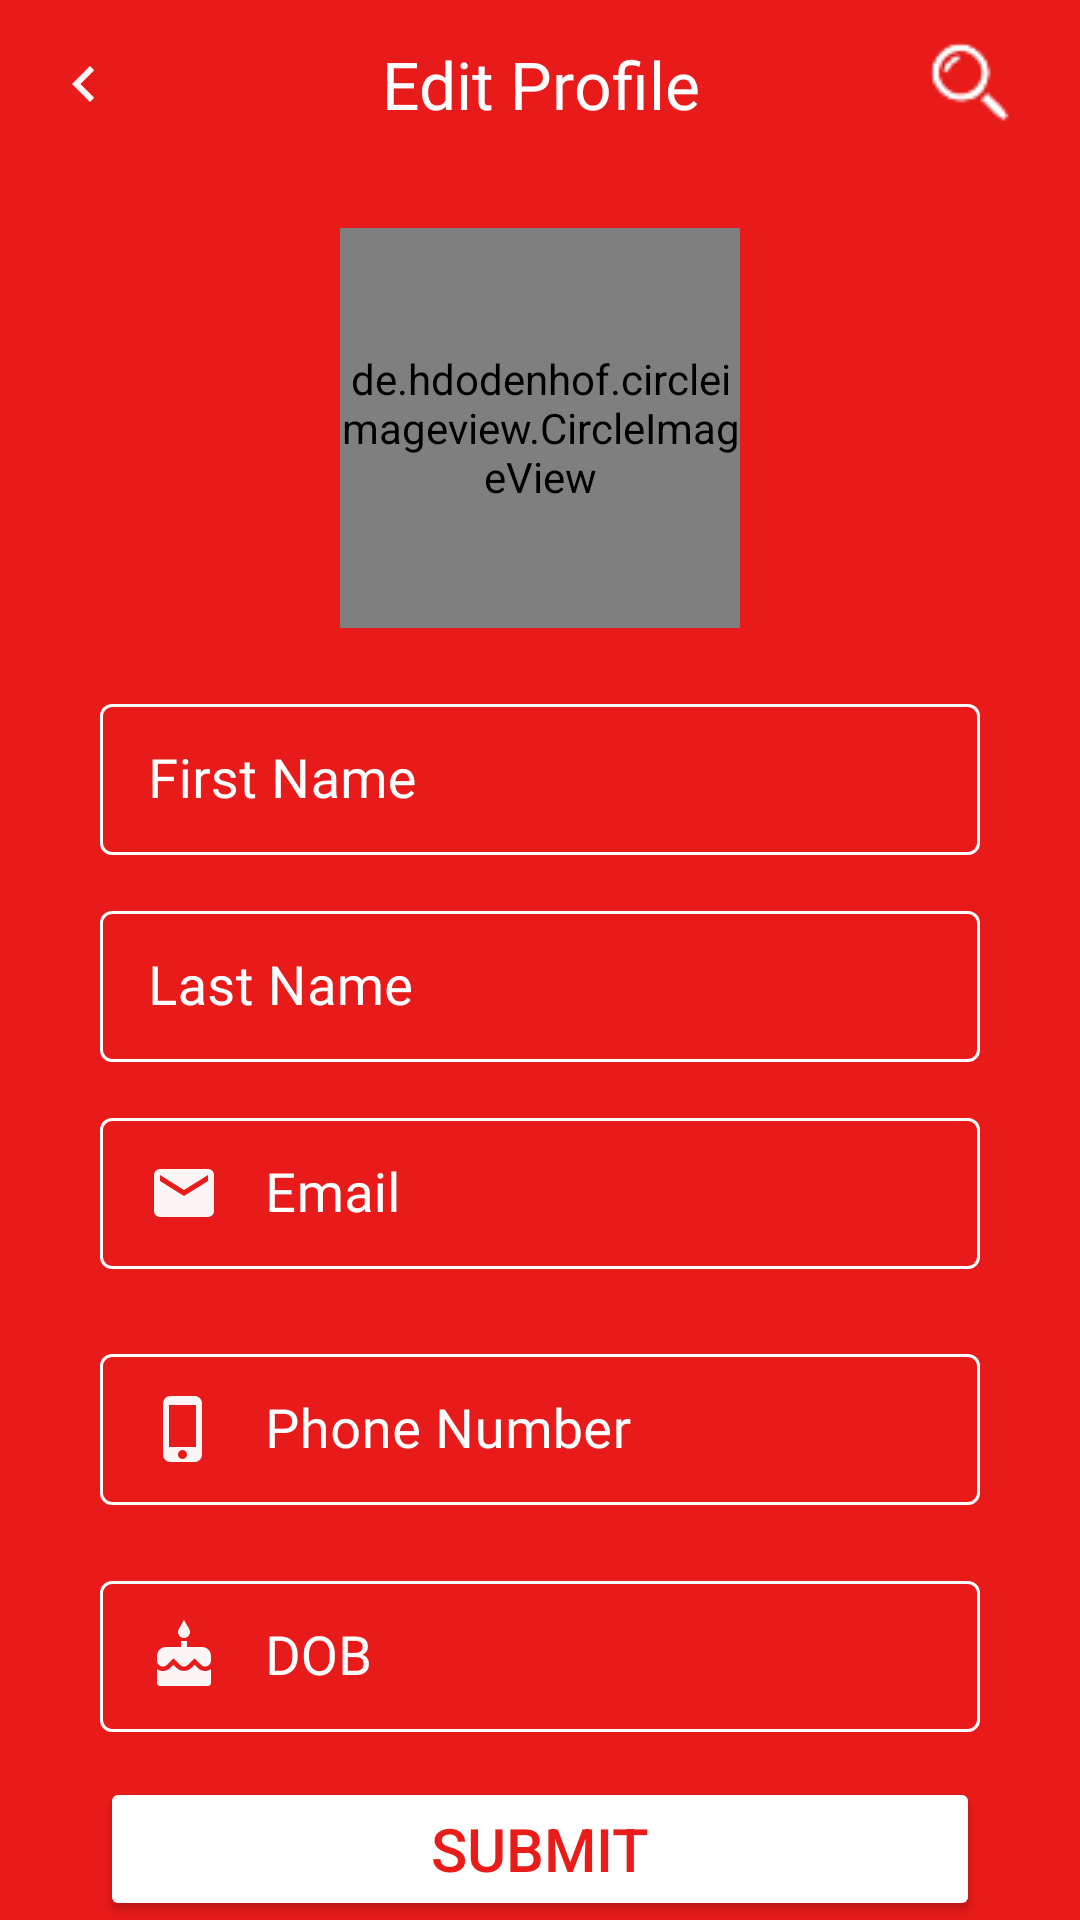

Where icons sit on this 1080px×1920px app screen, as [x1=x1, y1=y1, x2=x2, y2=y2]:
chevron left: [x1=72, y1=66, x2=94, y2=102]
search: [x1=931, y1=44, x2=1009, y2=121]
